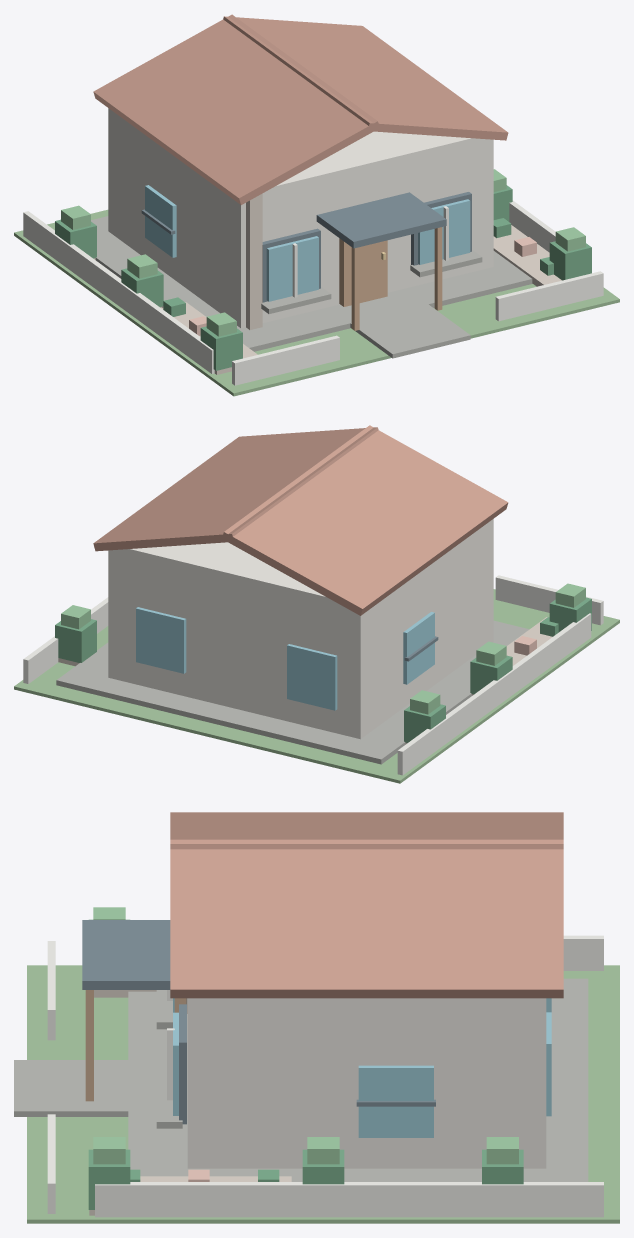
Rendered from building-type-h.gltf.
3 views of the same model, one above another, from view 1: azimuth 30°, elevation 25°; view 2: azimuth 150°, elevation 25°; view 3: azimuth 270°, elevation 25° (orthographic). The views are drawn at different scales.
Visible parts, largest first — view 1: Roof, Wall, Stone, White, Grass, BlueGlass, Dark, TreeLeaf, WarmWall, Wood, LeafLight, Flowers; view 2: Wall, Roof, Stone, Grass, White, BlueGlass, TreeLeaf, LeafLight, WarmWall; view 3: Roof, Wall, Stone, Grass, White, Dark, BlueGlass, TreeLeaf, LeafLight, Wood, WarmWall.
Part boxes in pixels (left/top/right/bottom): Roof: left=93, top=14, right=508, bottom=204; Wall: left=108, top=108, right=493, bottom=328; Stone: left=91, top=216, right=532, bottom=358; White: left=23, top=200, right=603, bottom=385; Grass: left=14, top=209, right=619, bottom=396; BlueGlass: left=145, top=185, right=470, bottom=301; Dark: left=141, top=192, right=471, bottom=302; TreeLeaf: left=55, top=185, right=591, bottom=370; WarmWall: left=94, top=193, right=561, bottom=374; Wood: left=339, top=227, right=442, bottom=330; LeafLight: left=61, top=169, right=585, bottom=336; Flowers: left=189, top=237, right=536, bottom=335; Wall: left=108, top=519, right=493, bottom=739; Roof: left=93, top=425, right=508, bottom=615; Stone: left=56, top=620, right=529, bottom=764; Grass: left=14, top=589, right=619, bottom=783; White: left=23, top=575, right=603, bottom=775; BlueGlass: left=136, top=607, right=434, bottom=710; TreeLeaf: left=55, top=597, right=591, bottom=742; LeafLight: left=61, top=583, right=585, bottom=714; WarmWall: left=58, top=617, right=552, bottom=744; Roof: left=170, top=812, right=563, bottom=998; Wall: left=187, top=998, right=546, bottom=1168; Stone: left=14, top=978, right=588, bottom=1181; Grass: left=27, top=965, right=619, bottom=1223; White: left=47, top=935, right=603, bottom=1217; Dark: left=82, top=920, right=435, bottom=1124; BlueGlass: left=173, top=998, right=551, bottom=1137; TreeLeaf: left=88, top=919, right=523, bottom=1209; LeafLight: left=93, top=907, right=518, bottom=1164; Wood: left=85, top=990, right=186, bottom=1101; WarmWall: left=89, top=990, right=291, bottom=1215.
Size of the model in its own units: 10.4 by 4.85 by 10.47.
